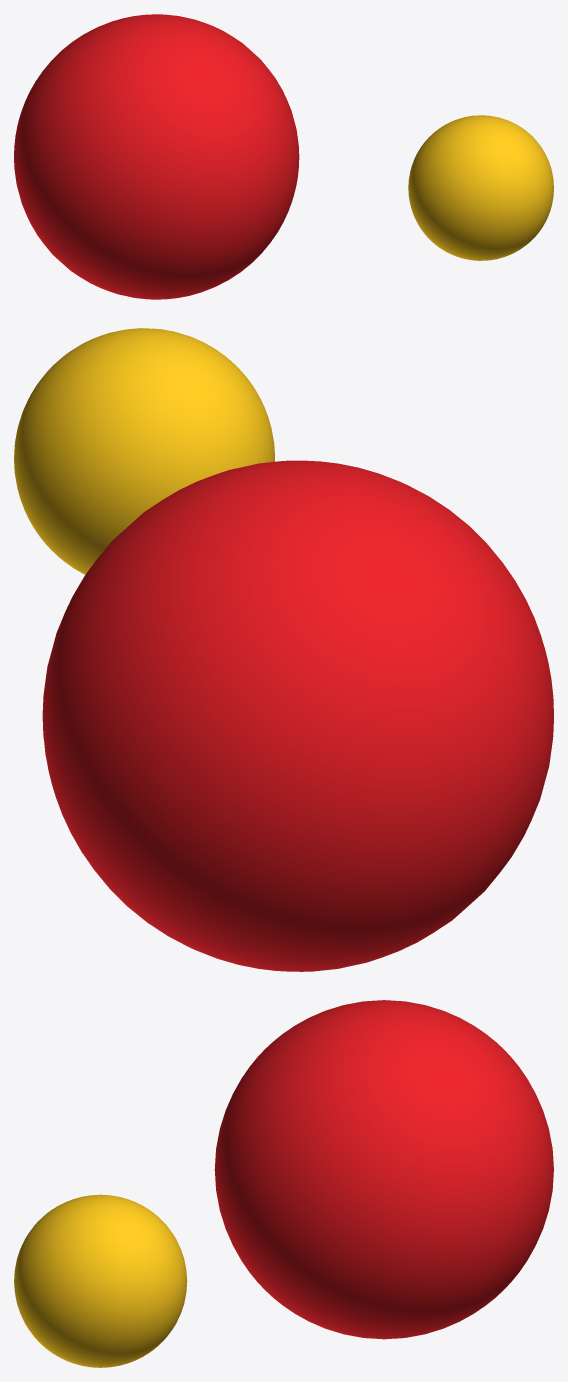
3 views of the same model, one above another, from view 1: azimuth 30°, elevation 25°; view 2: azimuth 150°, elevation 25°; view 3: azimuth 270°, elevation 25° (orthographic). The views are drawn at different scales.
Visible parts, largest first — view 1: mesh_id67, mesh_id82; view 2: mesh_id67, mesh_id82; view 3: mesh_id67, mesh_id82.
Boxes of the visible parts, x1,y1,x2,y2 form: mesh_id67: [14, 14, 299, 299]; mesh_id82: [408, 115, 553, 260]; mesh_id67: [42, 460, 553, 971]; mesh_id82: [14, 328, 274, 574]; mesh_id67: [214, 1000, 553, 1339]; mesh_id82: [14, 1194, 187, 1367].
Size of the model in its own units: 0.0527 by 0.0333 by 0.0529.
2 materials, 2 textured.
